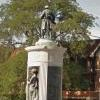Statue: (15, 5, 93, 57)
